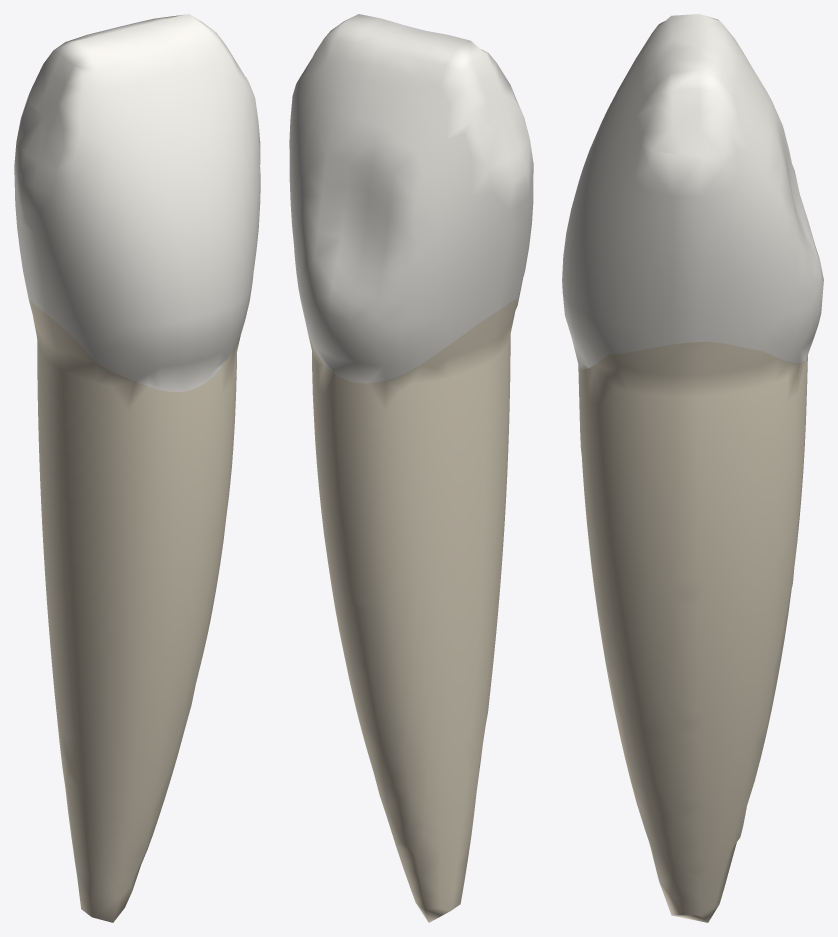
3 renders of one model, left to right at view 1: azimuth 30°, elevation 25°; view 2: azimuth 150°, elevation 25°; view 3: azimuth 270°, elevation 25°, orthographic. The views are drawn at different scales.
Visible parts, largest first — view 1: root, V, I, D, M; view 2: root, L, I, D, M; view 3: root, M, I, L, V.
Part boxes in pixels (x1=…): root: x1=28, y1=299, x2=242, y2=922; V: x1=97, y1=97, x2=255, y2=392; I: x1=28, y1=14, x2=248, y2=146; D: x1=14, y1=97, x2=116, y2=363; M: x1=223, y1=83, x2=260, y2=270; root: x1=308, y1=299, x2=518, y2=922; L: x1=293, y1=118, x2=438, y2=383; I: x1=296, y1=14, x2=515, y2=145; D: x1=428, y1=96, x2=533, y2=353; M: x1=289, y1=84, x2=314, y2=243; root: x1=578, y1=342, x2=807, y2=922; M: x1=600, y1=128, x2=772, y2=354; I: x1=617, y1=14, x2=769, y2=155; L: x1=761, y1=92, x2=823, y2=362; V: x1=562, y1=91, x2=628, y2=369.
Bounding box in the file's own units: 4.02 × 15.07 × 3.99.
